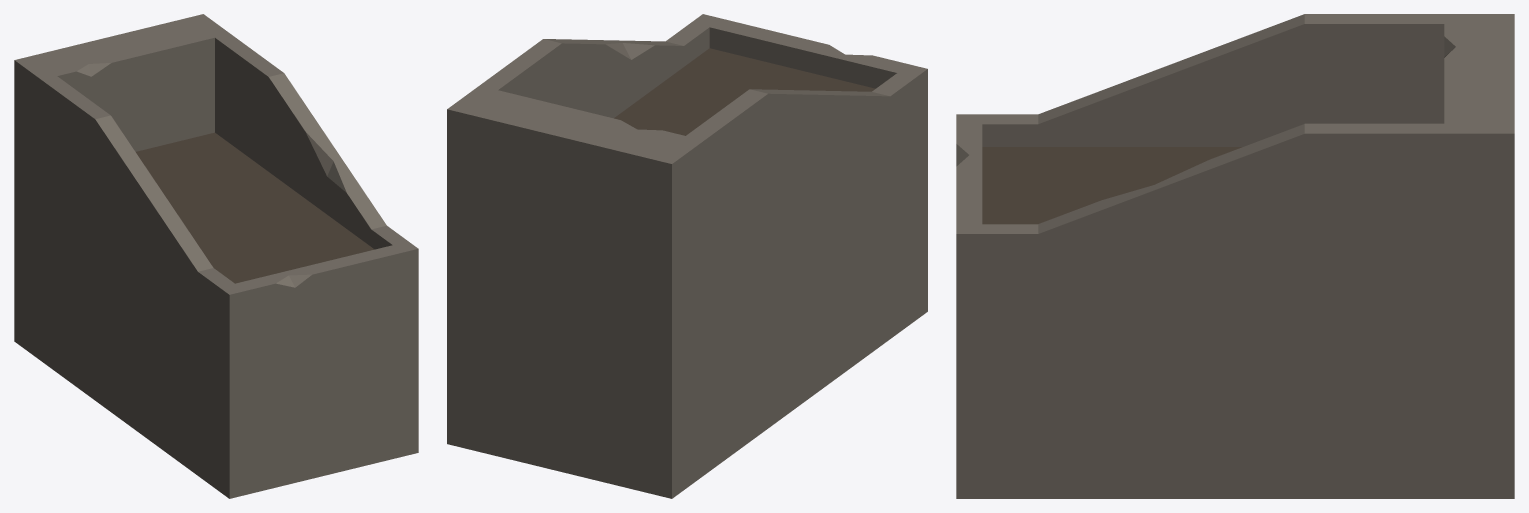
File: SM_Bld_Apartment_Stairs_Planter_01.glb
The picture shows the model from 3 angles, left to right: view 1: azimuth 30°, elevation 25°; view 2: azimuth 150°, elevation 25°; view 3: azimuth 270°, elevation 25°; orthographic projection. The views are drawn at different scales.
Visible parts, largest first — view 1: SM_Bld_Apartment_Stairs_Planter_01; view 2: SM_Bld_Apartment_Stairs_Planter_01; view 3: SM_Bld_Apartment_Stairs_Planter_01.
Boxes of the visible parts, x1,y1,x2,y2 form: SM_Bld_Apartment_Stairs_Planter_01: [14, 14, 418, 498]; SM_Bld_Apartment_Stairs_Planter_01: [447, 14, 927, 498]; SM_Bld_Apartment_Stairs_Planter_01: [956, 14, 1514, 498].
Size of the model in its own units: 0.0228 by 0.0325 by 0.045.
Materials: 1 (1 with a texture image).
